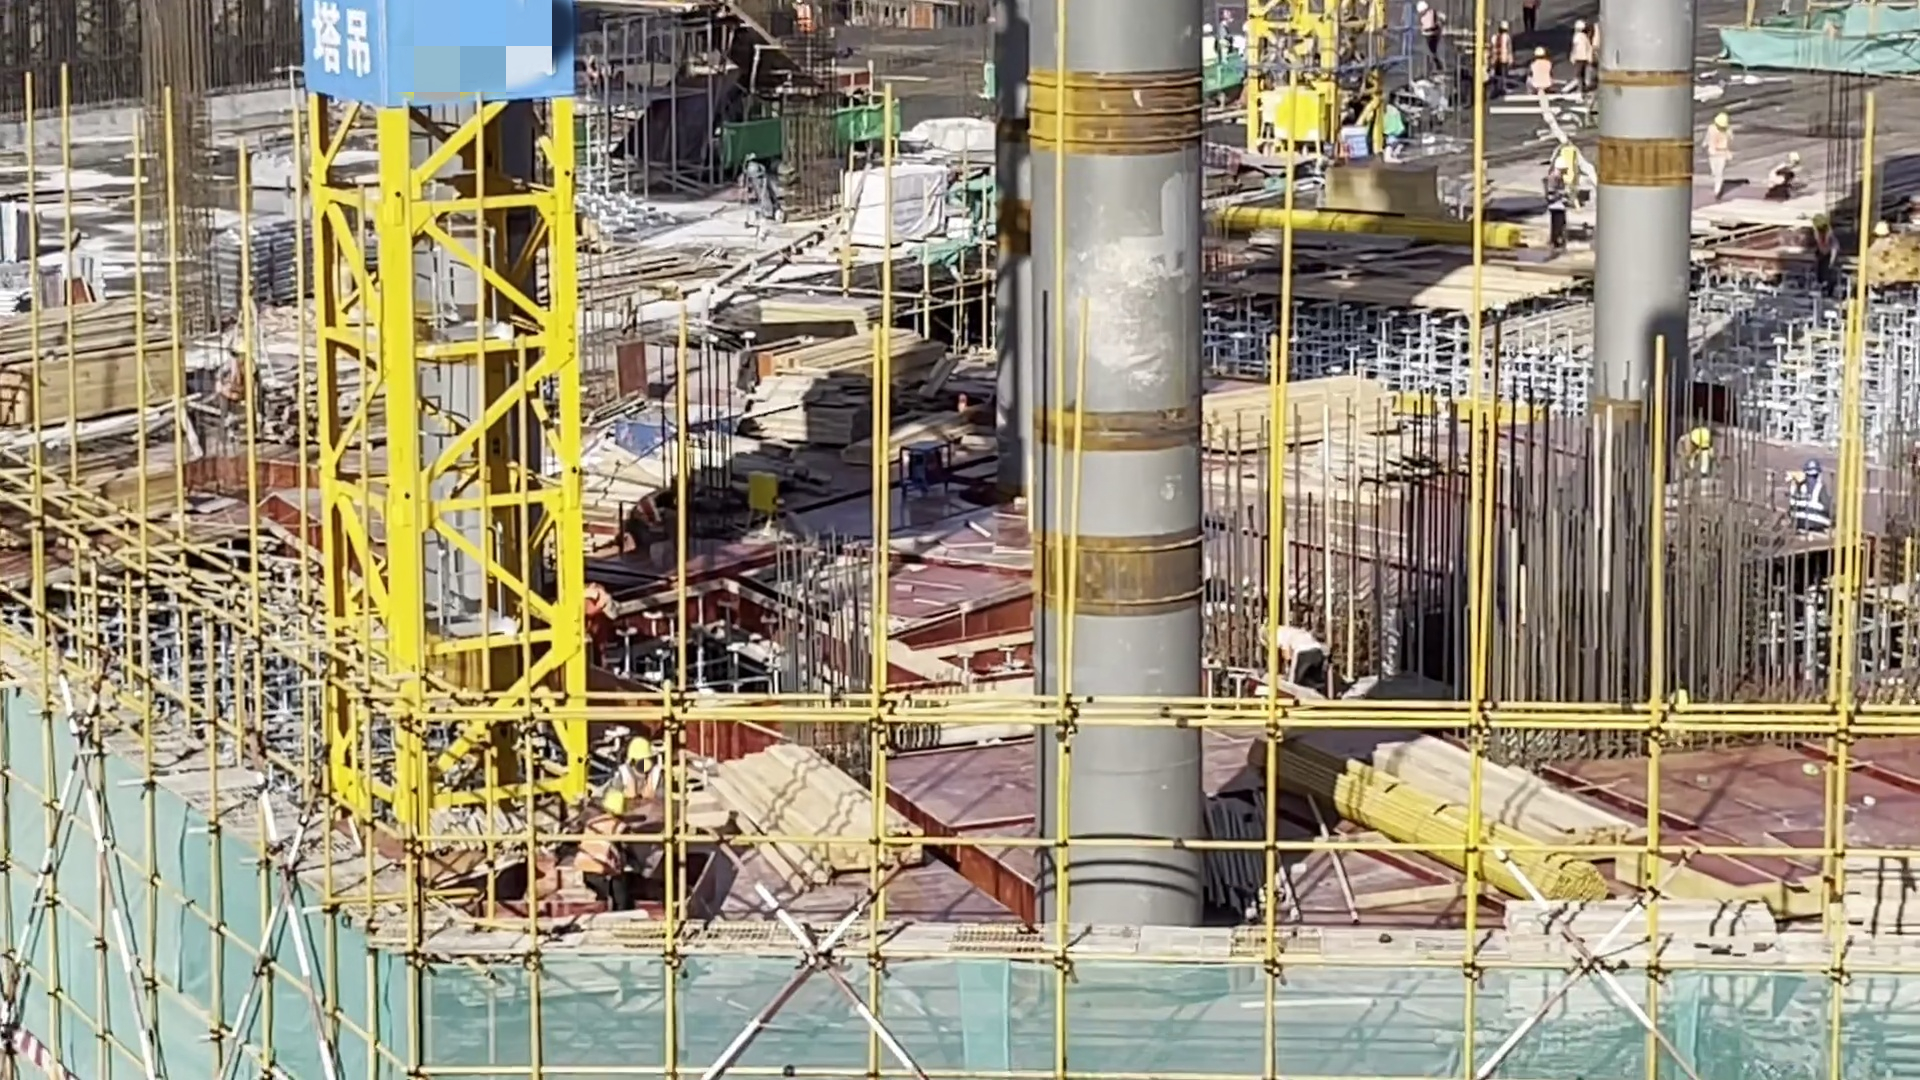ebox: (1273, 88, 1322, 143), (746, 463, 780, 525)
helmet: (624, 728, 660, 772), (1796, 452, 1827, 483), (1685, 417, 1714, 447), (1710, 105, 1725, 131), (1784, 145, 1800, 163)
person: (610, 750, 683, 890), (1783, 462, 1845, 548), (1255, 618, 1325, 687), (1518, 45, 1562, 117), (1475, 17, 1515, 97), (1764, 143, 1807, 206), (1711, 110, 1737, 205), (1565, 18, 1593, 91)
vest: (1793, 484, 1827, 521)
wood: (702, 741, 905, 878)
